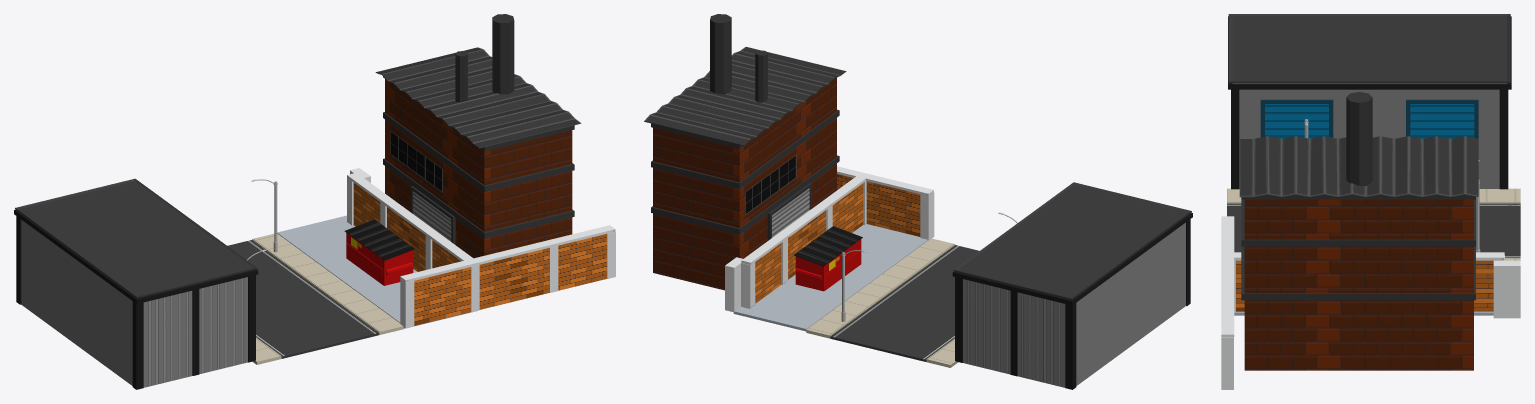
Rendered from CityPt2.fbx.
The picture shows the model from 3 angles, left to right: view 1: azimuth 30°, elevation 25°; view 2: azimuth 150°, elevation 25°; view 3: azimuth 270°, elevation 25°; orthographic projection. The views are drawn at different scales.
Visible parts, largest first — view 1: Ed05, Ed04, Recuo, StreetCo.001; view 2: Ed05, Ed04, Recuo, StreetCo.001; view 3: Ed04, Ed05, Recuo, StreetCo.001.
Boxes of the visible parts, <box> form: Ed05: <box>14,178,258,389</box>; Ed04: <box>375,14,581,258</box>; Recuo: <box>277,168,615,328</box>; StreetCo.001: <box>227,233,403,364</box>; Ed05: <box>952,182,1192,389</box>; Ed04: <box>644,14,846,290</box>; Recuo: <box>725,166,934,331</box>; StreetCo.001: <box>806,238,979,367</box>; Ed04: <box>1239,92,1478,370</box>; Ed05: <box>1228,14,1511,189</box>; Recuo: <box>1221,216,1520,389</box>; StreetCo.001: <box>1227,188,1520,260</box>.
Size of the model in its own units: 32.42 by 14.98 by 15.29.
